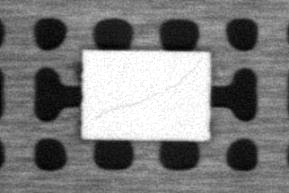DIE_CRACK: (95, 60, 199, 115)
